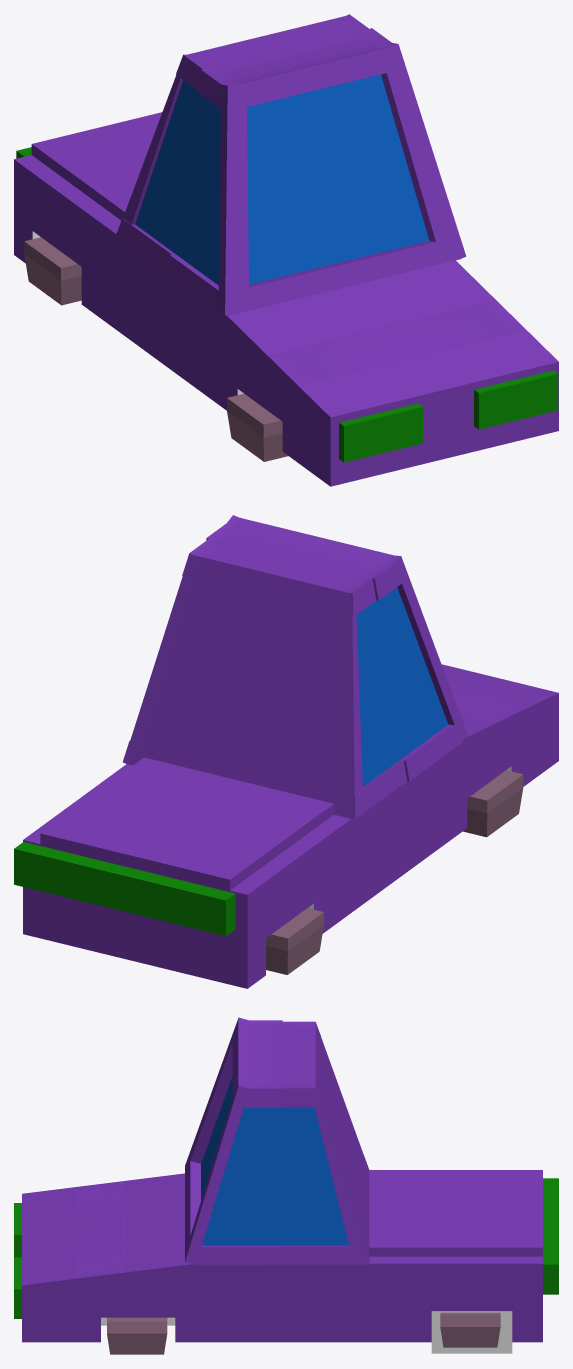
Rendered from Low_Poly_Car_d867720a.glb.
3 views of the same model, one above another, from view 1: azimuth 30°, elevation 25°; view 2: azimuth 150°, elevation 25°; view 3: azimuth 270°, elevation 25° (orthographic). The views are drawn at different scales.
Visible parts, largest first — view 1: unnamed (×3); view 2: unnamed (×3); view 3: unnamed (×5).
Part boxes in pixels (x1,y1,x2,y2): unnamed (×3): [14, 14, 558, 486]; unnamed (×3): [14, 515, 558, 988]; unnamed (×5): [14, 1017, 558, 1354].
Size of the model in its own units: 2.77 by 3.25 by 6.28.
Materials: 3 (2 with a texture image).
